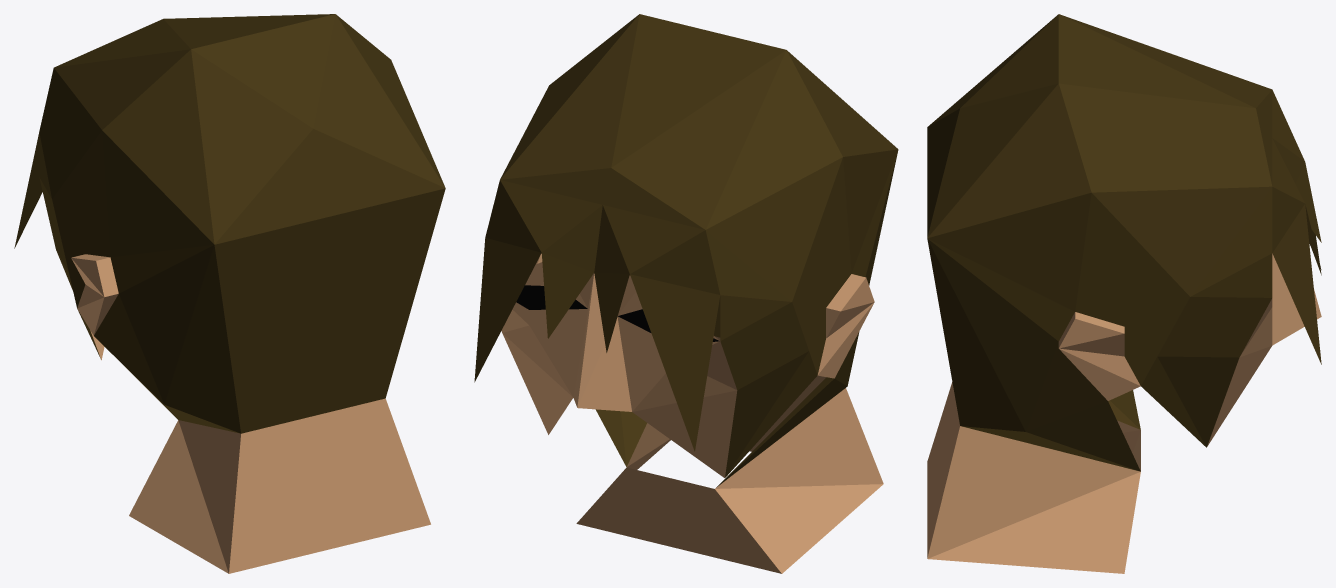
Rendered from player_male_head_3_0.obj.
3 renders of one model, left to right at view 1: azimuth 30°, elevation 25°; view 2: azimuth 150°, elevation 25°; view 3: azimuth 270°, elevation 25°, orthographic. The views are drawn at different scales.
Size of the model in its own units: 0.1719 by 0.25 by 0.1875.
